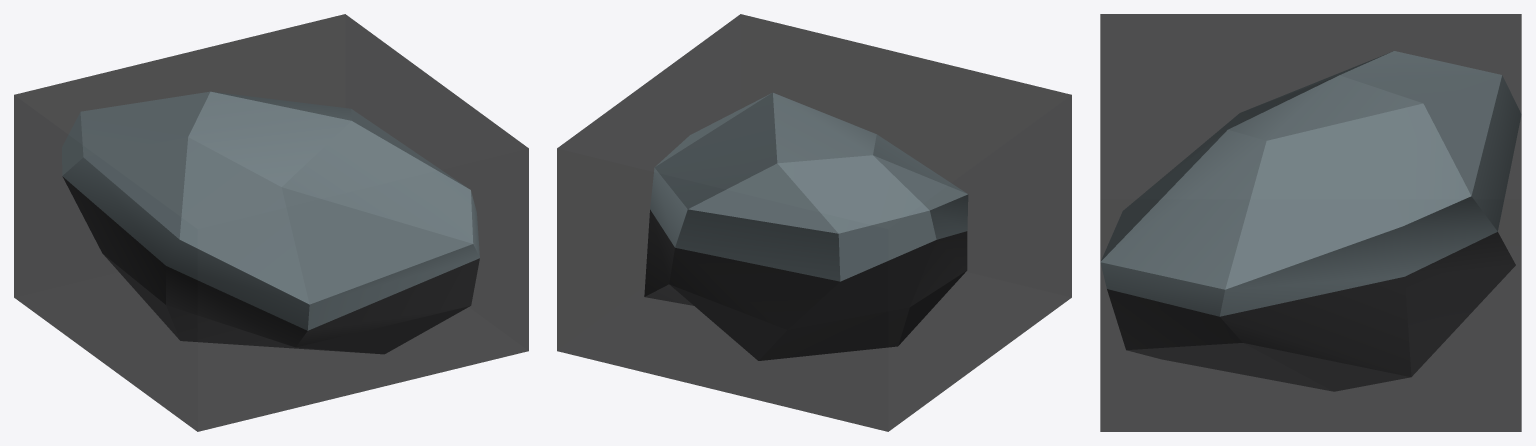
The model's file is Stone_2.fbx.
The picture shows the model from 3 angles, left to right: view 1: azimuth 30°, elevation 25°; view 2: azimuth 150°, elevation 25°; view 3: azimuth 270°, elevation 25°; orthographic projection. The views are drawn at different scales.
Visible parts, largest first — view 1: Stone_2_BBox, Stone_2; view 2: Stone_2_BBox, Stone_2; view 3: Stone_2_BBox, Stone_2.
Boxes of the visible parts, x1,y1,x2,y2 form: Stone_2_BBox: [14, 14, 528, 431]; Stone_2: [62, 91, 479, 354]; Stone_2_BBox: [557, 14, 1071, 431]; Stone_2: [644, 93, 968, 360]; Stone_2_BBox: [1100, 14, 1521, 431]; Stone_2: [1100, 51, 1521, 391].
Bounding box in the file's own units: 3.24 × 1.89 × 3.11.
Materials: 2 (1 with a texture image).
